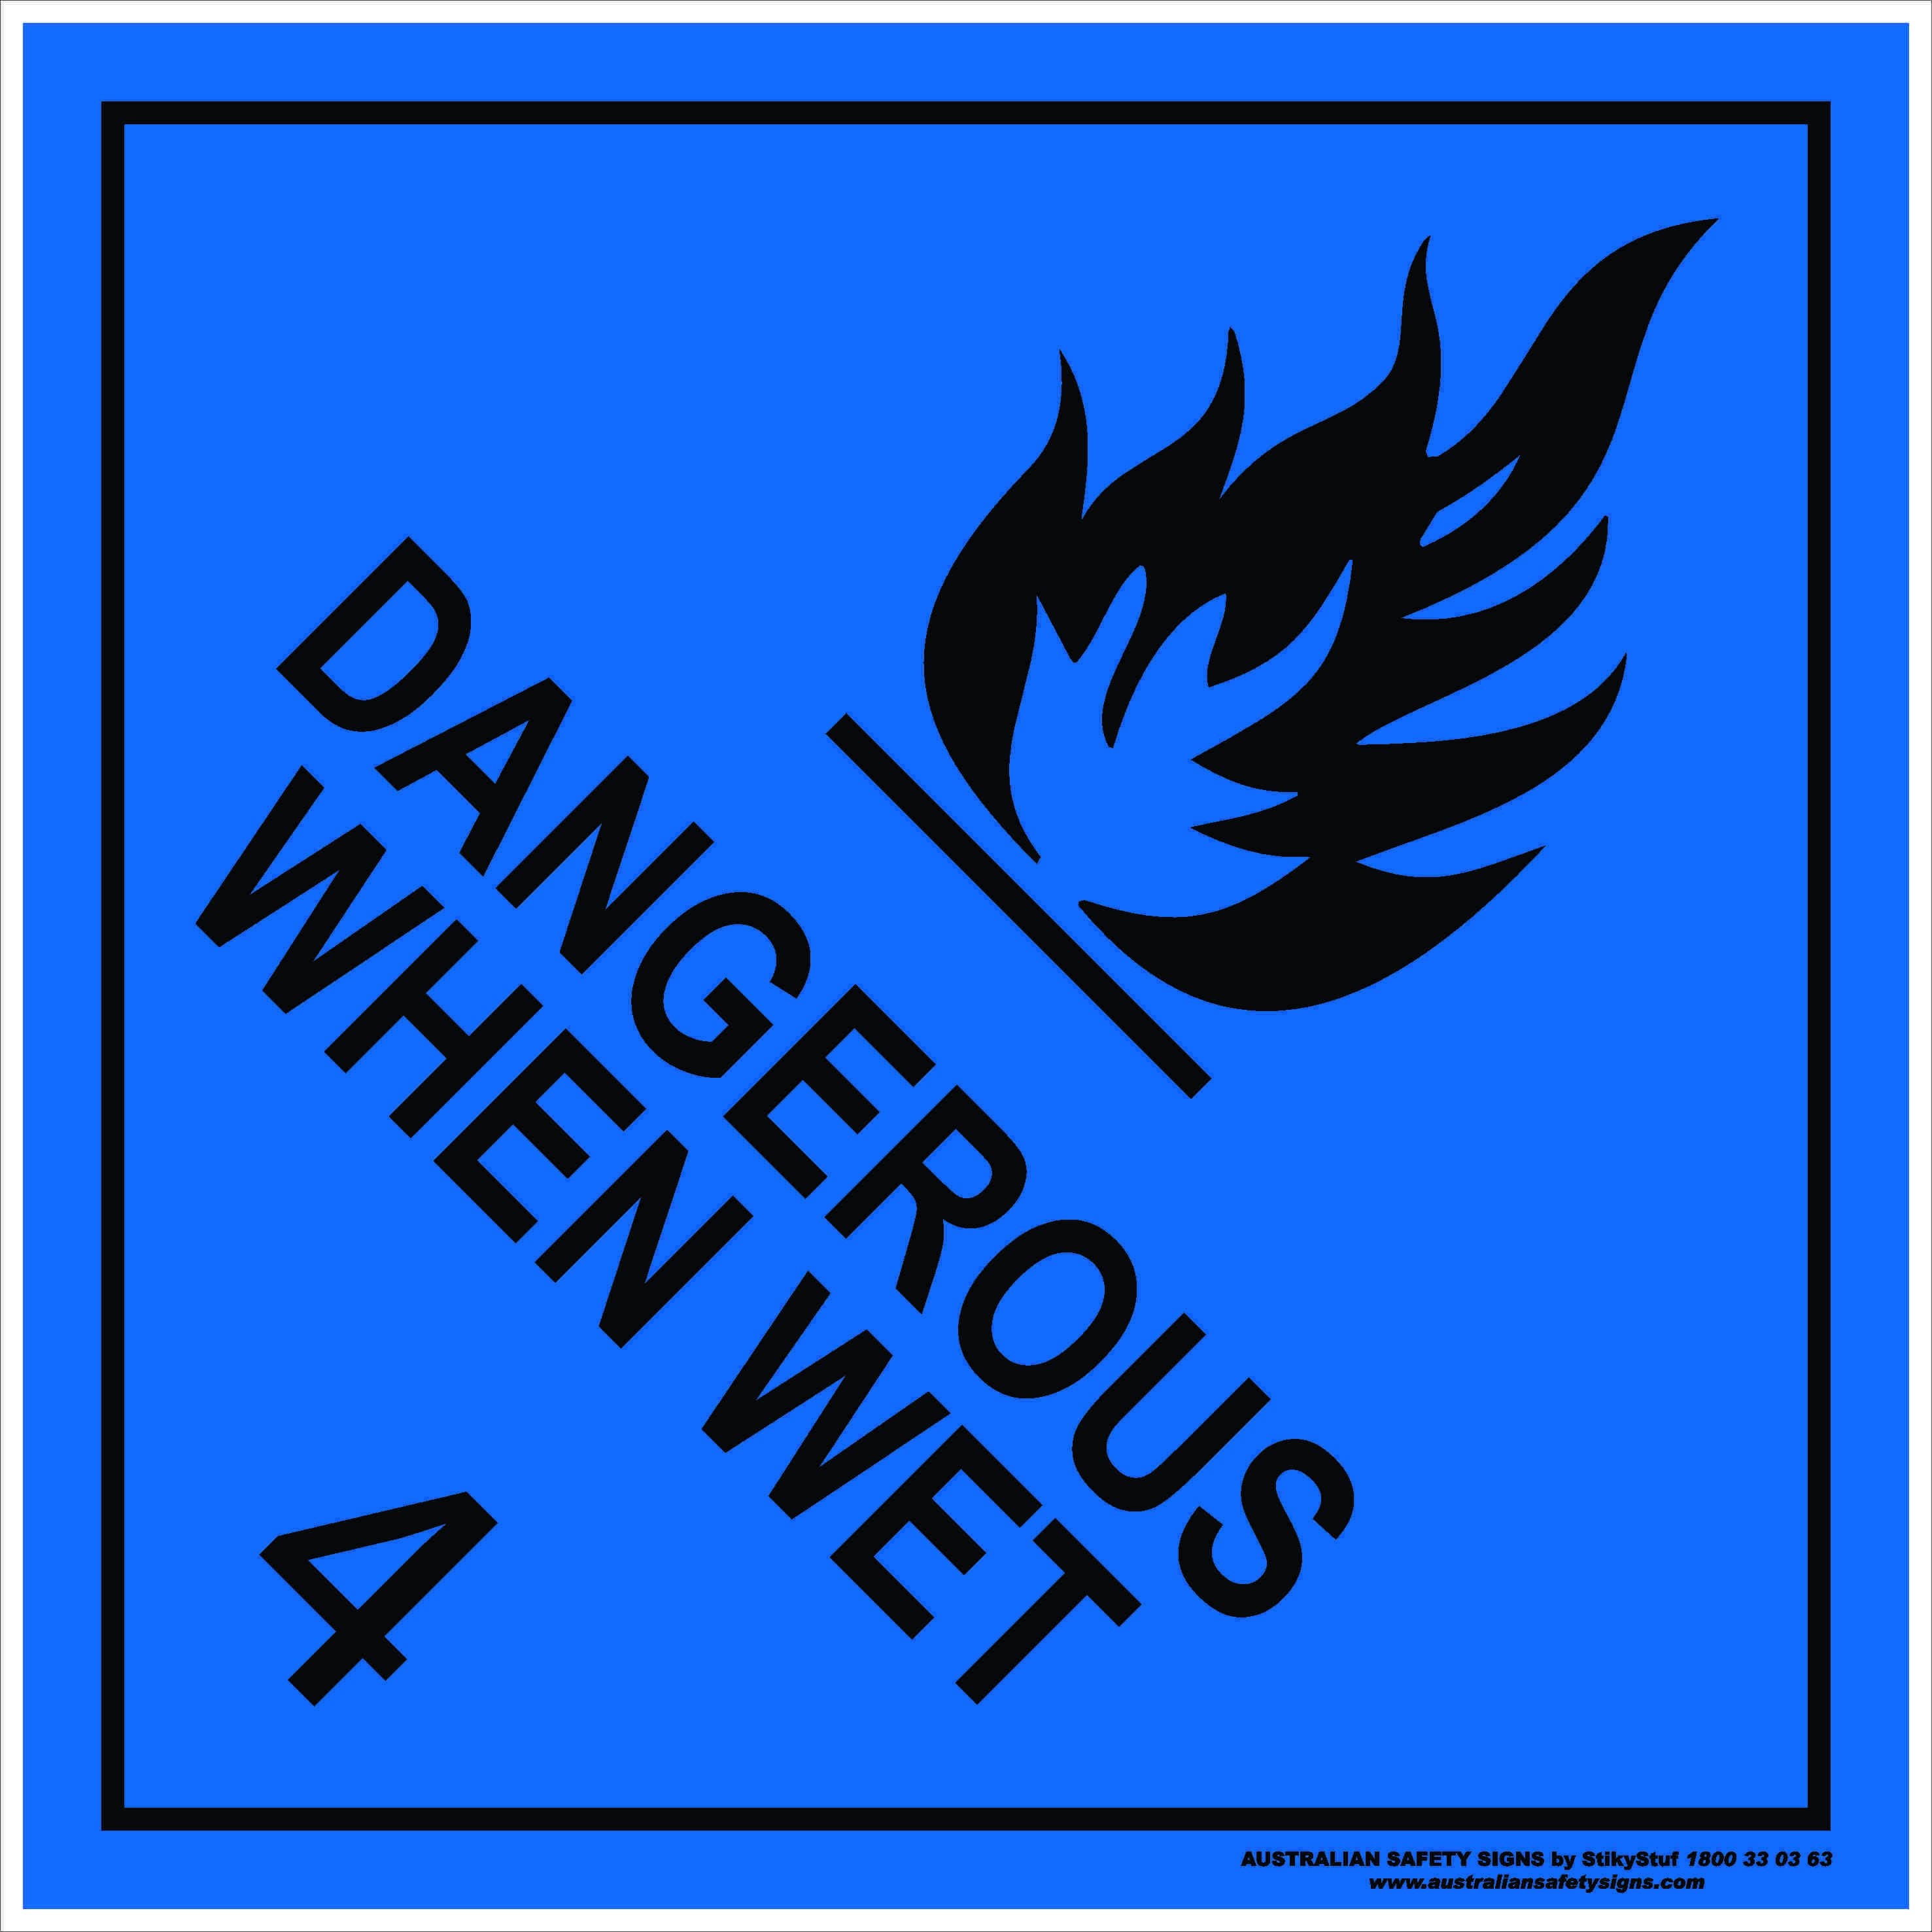Dangerous when wet: (21, 21, 1907, 1909)
